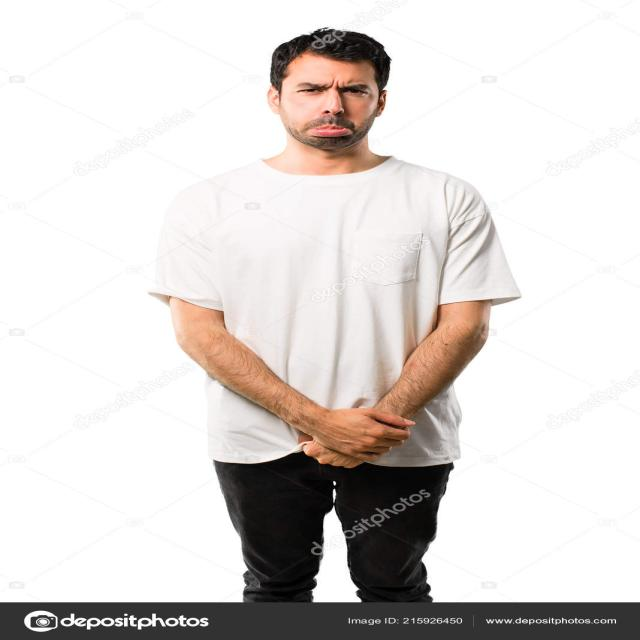sem_oculos: (264, 79, 409, 104)
